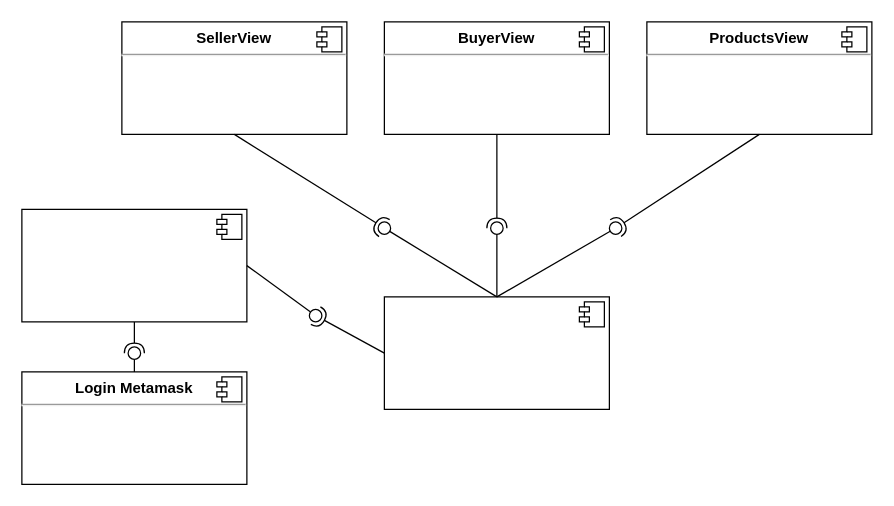
Some shapes in this 894 by 506 pixel diagram are drawn without their labels. Here are the shapes that lost their labels. From the top down, the centre of each, then its label:
the point at 134,265: LoginView
the point at 496,352: BD
